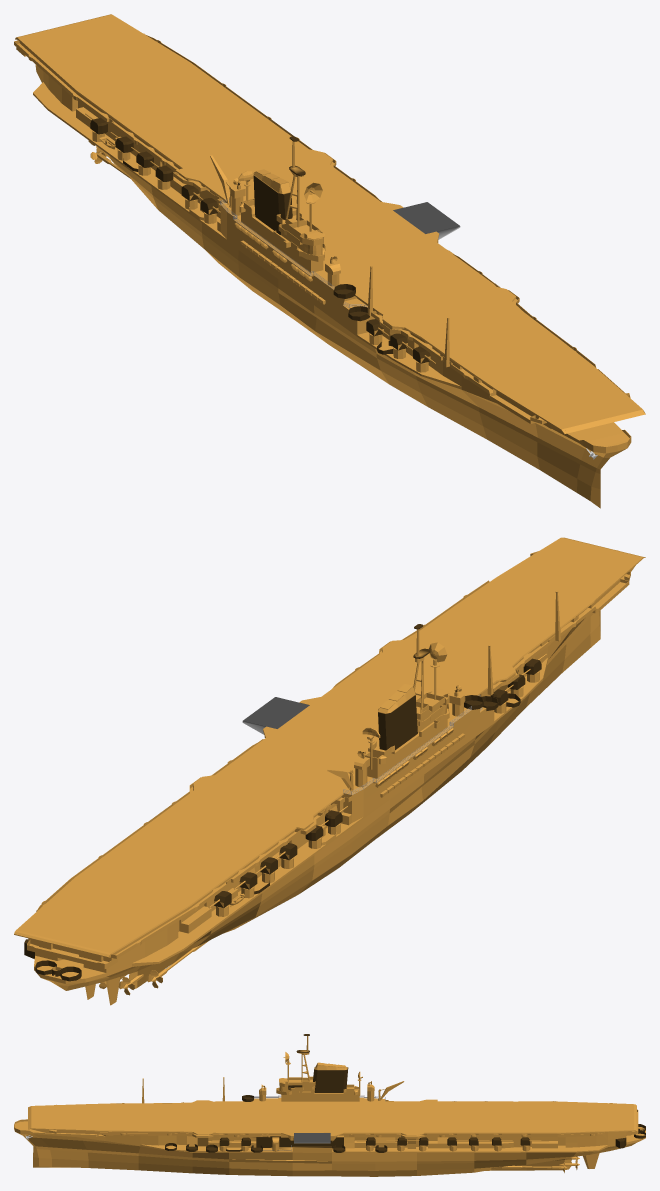
The model's file is Midway.fbx.
The picture shows the model from 3 angles, top to bottom: view 1: azimuth 30°, elevation 25°; view 2: azimuth 150°, elevation 25°; view 3: azimuth 270°, elevation 25°; orthographic projection. The views are drawn at different scales.
Visible parts, largest first — view 1: midway, Midway, midway-bottom, midway-structure, martk16-guns, elevator; view 2: midway, Midway, midway-bottom, midway-structure, martk16-guns, elevator; view 3: midway, Midway, midway-bottom, midway-structure, martk16-guns, midway-walls, elevator.
Part boxes in pixels (<box>): midway: <box>15,14,645,433</box>; Midway: <box>14,33,631,469</box>; midway-bottom: <box>88,140,600,508</box>; midway-structure: <box>210,136,453,367</box>; martk16-guns: <box>85,113,499,372</box>; elevator: <box>393,202,460,239</box>; midway: <box>14,537,645,957</box>; Midway: <box>24,550,635,990</box>; midway-bottom: <box>85,610,600,1005</box>; midway-structure: <box>35,591,560,981</box>; martk16-guns: <box>208,654,546,916</box>; elevator: <box>242,697,309,734</box>; midway: <box>28,1097,636,1136</box>; Midway: <box>14,1095,645,1161</box>; midway-bottom: <box>33,1145,599,1176</box>; midway-structure: <box>142,1034,645,1151</box>; martk16-guns: <box>209,1137,541,1151</box>; midway-walls: <box>165,1143,387,1152</box>; elevator: <box>294,1133,330,1143</box>.
Bounding box in the file's own units: 51.06 × 59.69 × 295.
